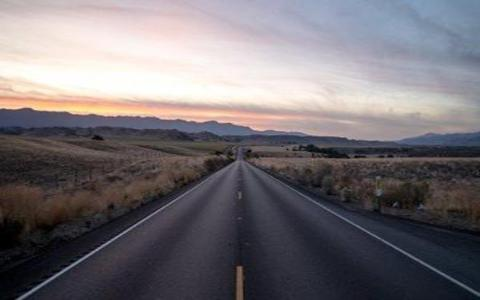Proper road: (172, 188, 330, 279)
